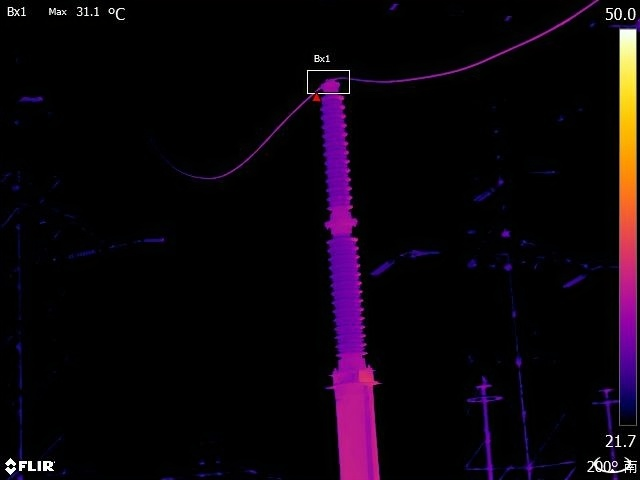post insulator: (313, 78, 389, 464)
